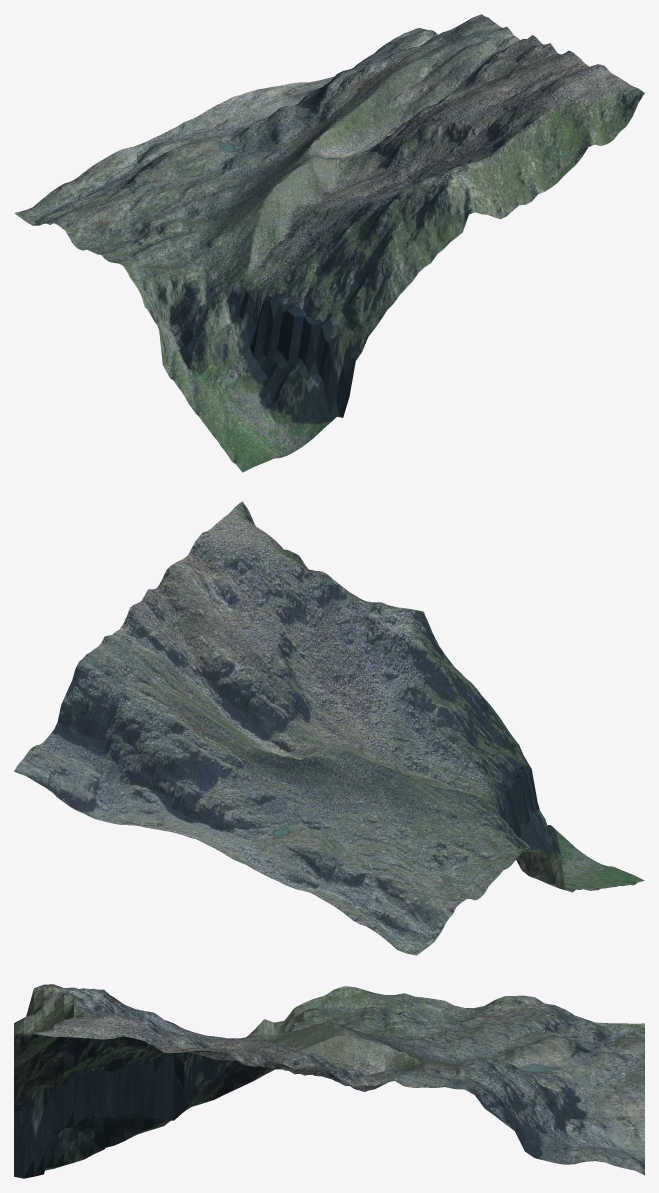
File: Silv_tile_4.gltf
3 views of the same model, one above another, from view 1: azimuth 30°, elevation 25°; view 2: azimuth 150°, elevation 25°; view 3: azimuth 270°, elevation 25° (orthographic). The views are drawn at different scales.
Parts seen in each view (by area): view 1: 18.016; view 2: 18.016; view 3: 18.016.
Boxes of the visible parts, bbox=[...] form: 18.016: bbox=[14, 14, 644, 472]; 18.016: bbox=[14, 501, 644, 955]; 18.016: bbox=[14, 984, 644, 1178].
Bounding box in the file's own units: 0.5 × 0.3344 × 0.4922.
1 material, 1 textured.
